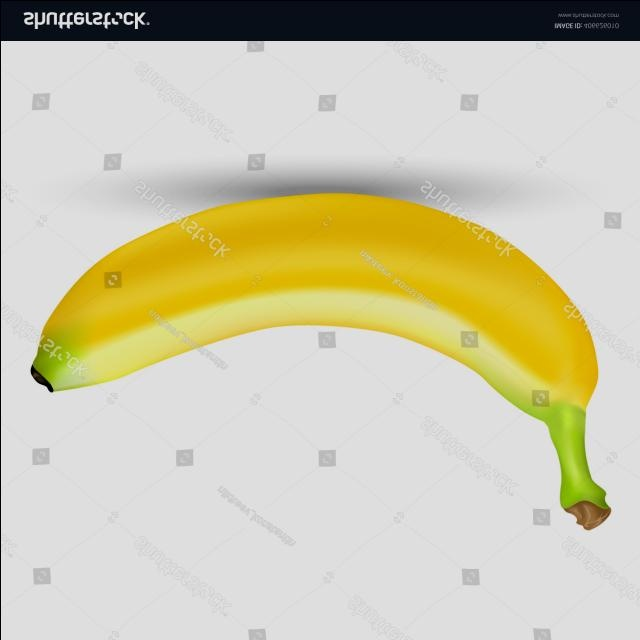agrume: (37, 186, 611, 529)
